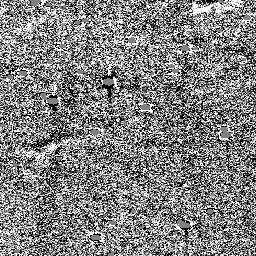LE: (15, 135, 65, 168)
